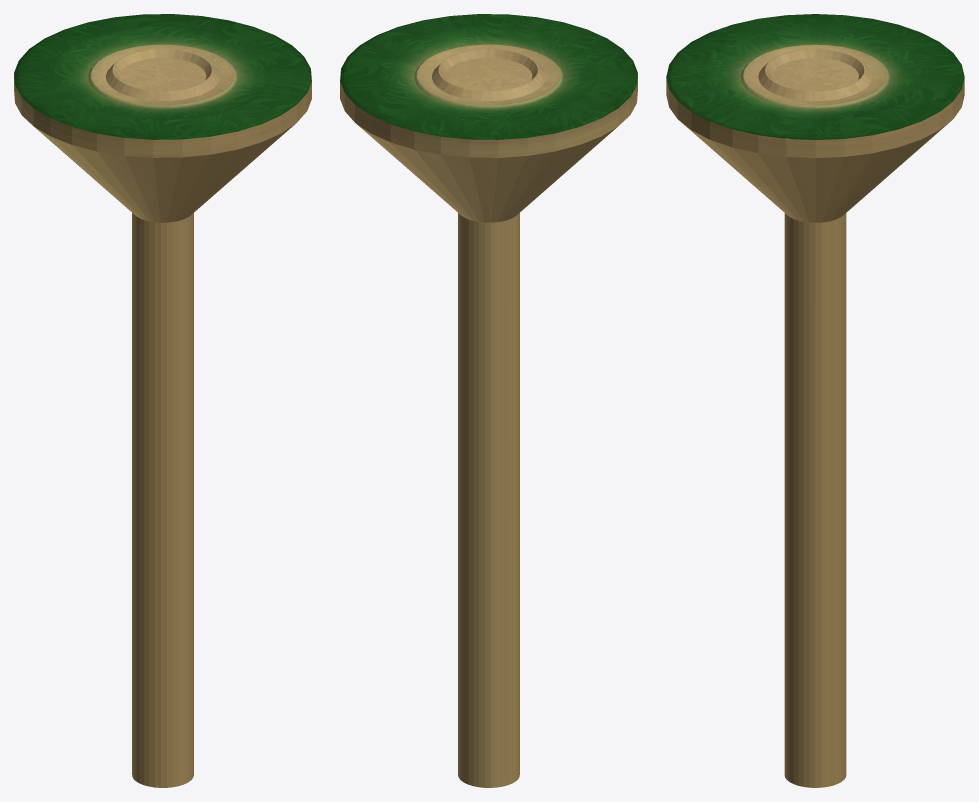
The model's file is Bee Stage.fbx.
The picture shows the model from 3 angles, left to right: view 1: azimuth 30°, elevation 25°; view 2: azimuth 150°, elevation 25°; view 3: azimuth 270°, elevation 25°; orthographic projection.
Parts seen in each view (by area): view 1: Cylinder; view 2: Cylinder; view 3: Cylinder.
Boxes of the visible parts, x1,y1,x2,y2 form: Cylinder: (14, 14, 311, 787); Cylinder: (340, 14, 637, 787); Cylinder: (666, 14, 964, 787).
Size of the model in its own units: 3000 by 7818 by 3000.
